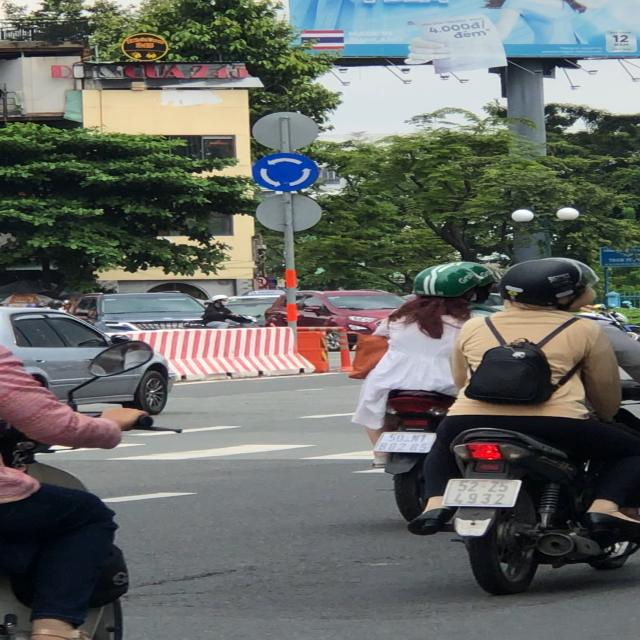Bien bao noi giao nhau chay theo vong xuyen: (249, 150, 324, 193)
